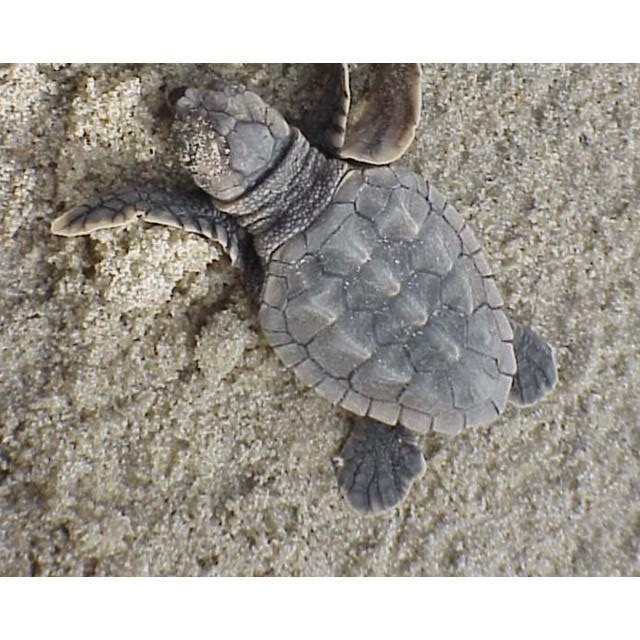turtle: (46, 66, 558, 519)
